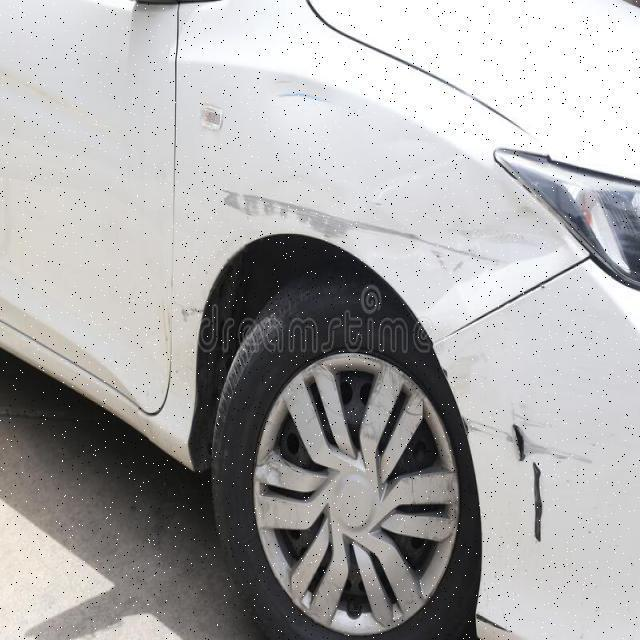fender-dent: (175, 92, 550, 362)
front-bumper-dent: (433, 322, 640, 639)
